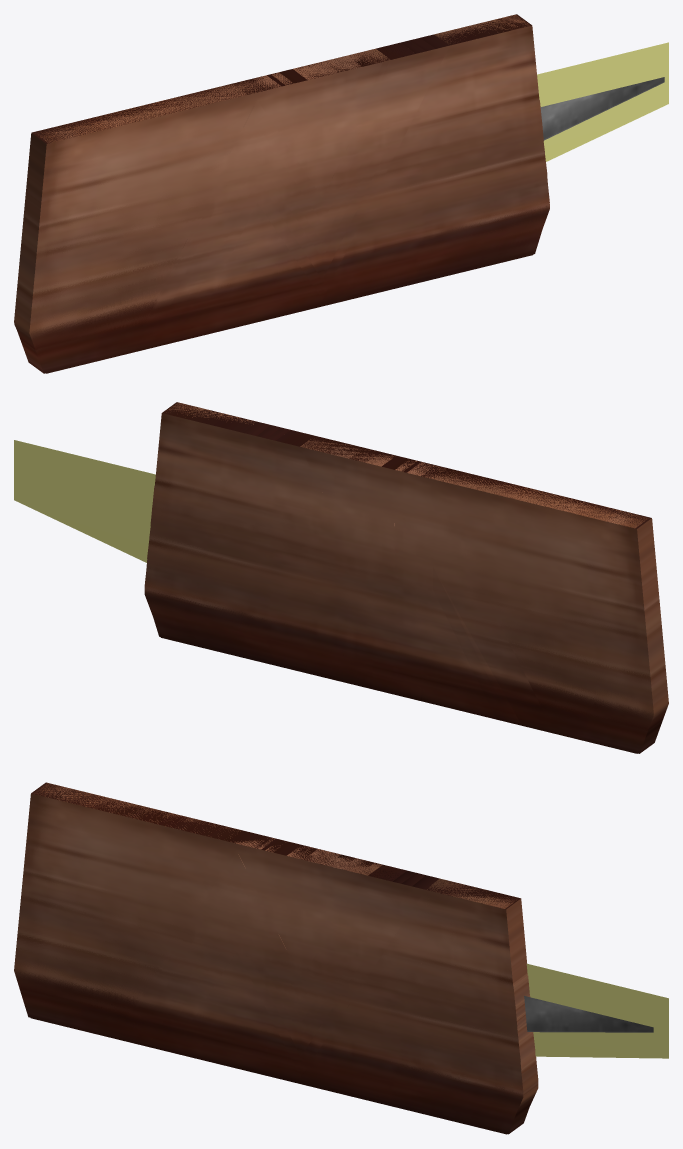
Rendered from pir_m_gui_srp_sawing_main.fbx.
3 views of the same model, one above another, from view 1: azimuth 30°, elevation 25°; view 2: azimuth 150°, elevation 25°; view 3: azimuth 330°, elevation 25° (orthographic). The views are drawn at different scales.
Parts seen in each view (by area): view 1: board.008, board.006, board.001, board.004, board.009, board, board.005, bladeGlow, zone_2.009, zone_2.005, zone_1.009, board.002 (+19 smaller); view 2: board.008, board.006, board.001, board.009, board.007, board, bladeGlow, board.003, board.002, board.004, zone_2.005, zone_1.006 (+11 smaller); view 3: board.008, board.009, board.001, board.006, board, bladeGlow, board.007, board.003, zone_2.009, zone_2.008, zone_2.007, zone_1.009 (+20 smaller).
Boxes of the visible parts, x1,y1,x2,y2 form: board.008: (29, 48, 389, 372); board.006: (14, 82, 549, 373); board.001: (317, 14, 549, 286); board.004: (35, 14, 539, 223); board.009: (191, 15, 549, 337); board: (14, 97, 248, 373); board.005: (30, 171, 549, 373); bladeGlow: (537, 42, 668, 161); zone_2.009: (174, 34, 449, 341); zone_2.005: (33, 154, 546, 296); zone_1.009: (165, 38, 435, 343); board.002: (30, 79, 302, 371); board.008: (300, 438, 653, 739); board.006: (144, 468, 664, 753); board.001: (145, 402, 386, 688); board.009: (144, 402, 486, 708); board.007: (154, 403, 373, 537); board: (441, 478, 668, 753); bladeGlow: (14, 440, 155, 562); board.003: (144, 403, 397, 662); board.002: (389, 459, 649, 753); board.004: (168, 402, 648, 606); zone_2.005: (148, 539, 650, 679); zone_1.006: (149, 461, 421, 603); board.008: (14, 783, 381, 1037); board.009: (172, 878, 538, 1105); board.001: (298, 849, 529, 1134); board.006: (14, 783, 538, 1134); board: (14, 782, 241, 1064); bladeGlow: (526, 963, 668, 1058); board.007: (303, 849, 527, 985); board.003: (254, 867, 538, 1115); zone_2.009: (156, 875, 439, 1076); zone_2.008: (116, 851, 382, 1032); zone_2.007: (286, 856, 529, 1006); zone_1.009: (147, 873, 425, 1056).
Size of the model in its own units: 157 by 52.64 by 6.66.
2 materials, 2 textured.
